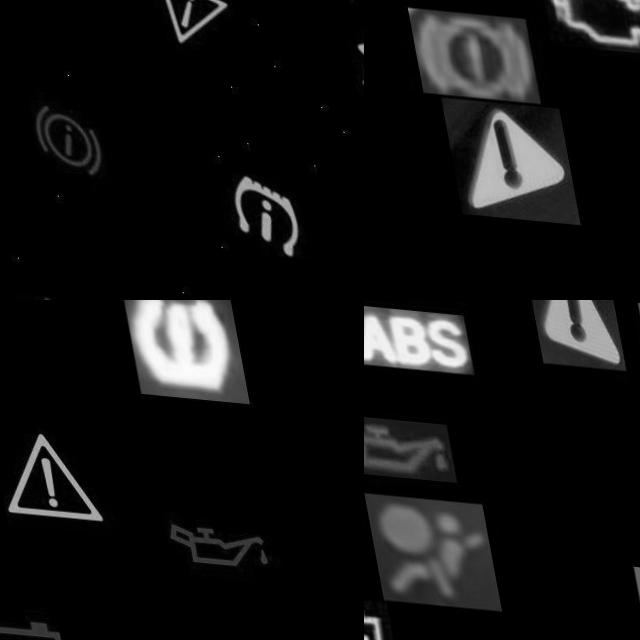Central Warning lamp: (428, 96, 564, 221), (0, 407, 107, 534), (515, 300, 615, 361)
